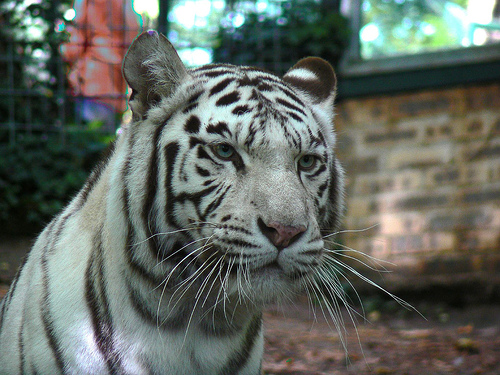Tigre: (45, 49, 347, 346)
